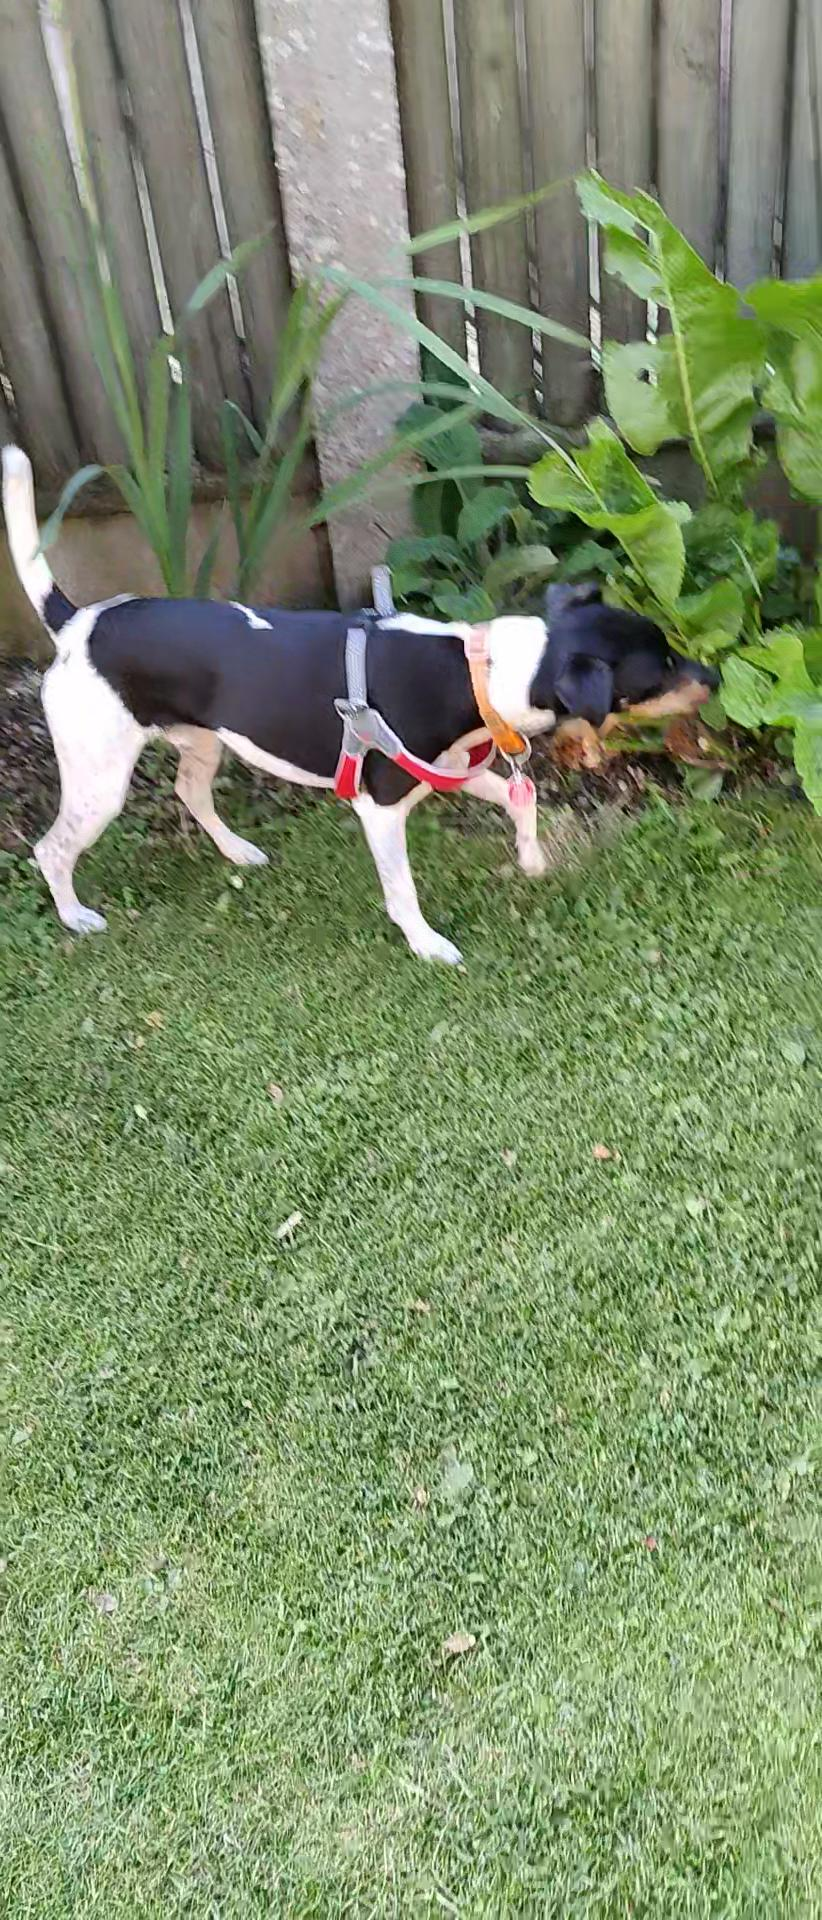Dog: (0, 429, 729, 972)
